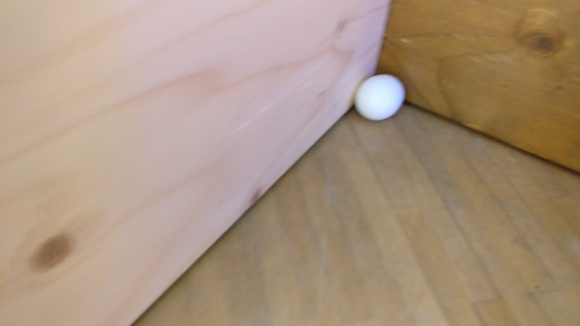egg: (354, 74, 406, 121)
